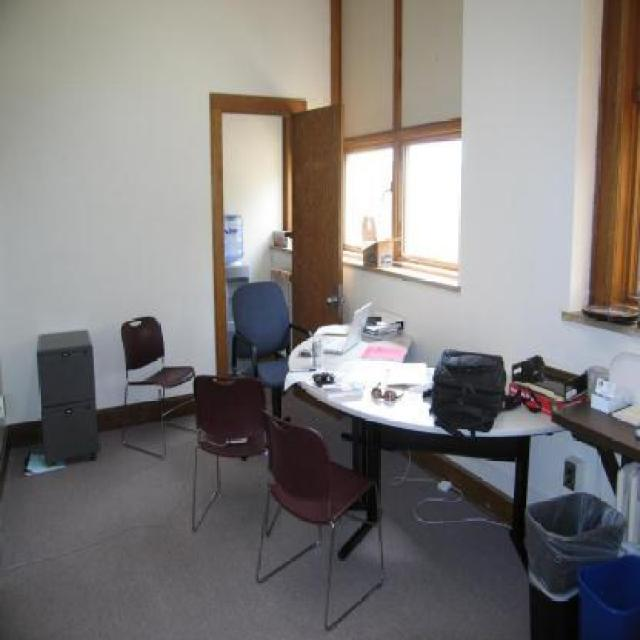backpack: (426, 348, 511, 440)
